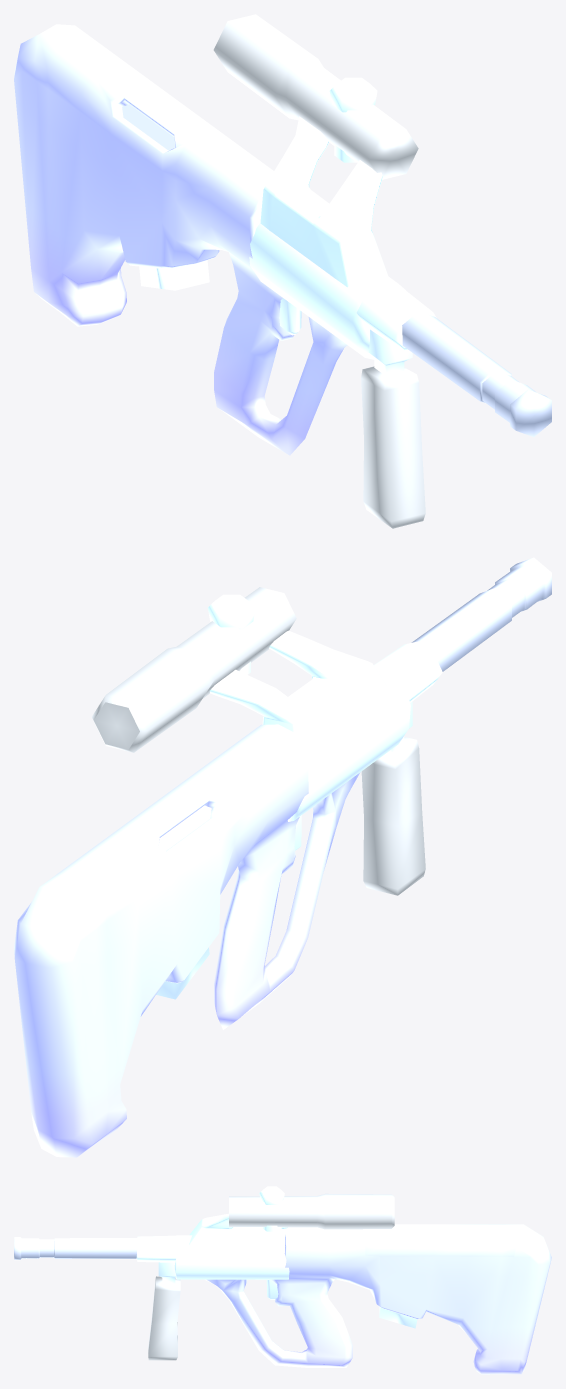
Rendered from Weapon_7.fbx.
The picture shows the model from 3 angles, top to bottom: view 1: azimuth 30°, elevation 25°; view 2: azimuth 150°, elevation 25°; view 3: azimuth 270°, elevation 25°; orthographic projection. The views are drawn at different scales.
Visible parts, largest first — view 1: AugMesh; view 2: AugMesh; view 3: AugMesh.
Part boxes in pixels (x1,y1,x2,y2): AugMesh: (14, 14, 551, 528); AugMesh: (14, 557, 551, 1157); AugMesh: (14, 1186, 551, 1374).
Bounding box in the file's own units: 55.82 × 165 × 408.
